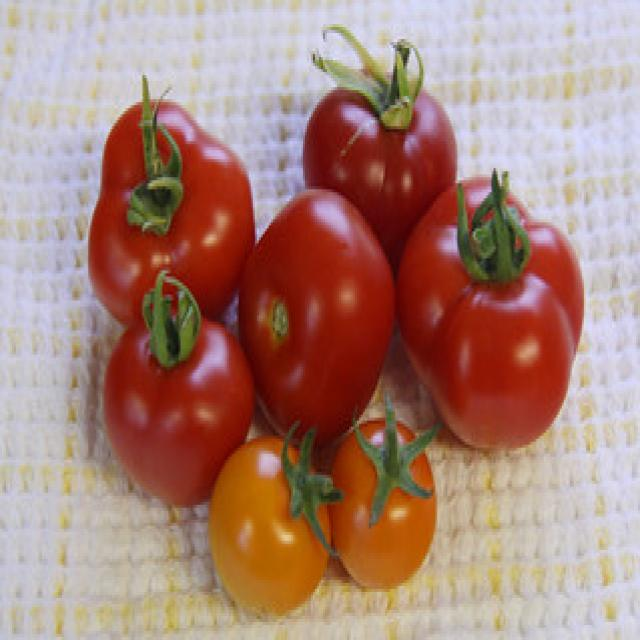Tomato: (394, 168, 587, 458), (233, 187, 396, 450), (85, 91, 256, 328), (100, 301, 256, 513), (300, 62, 462, 264), (205, 430, 330, 618), (328, 420, 440, 592)
